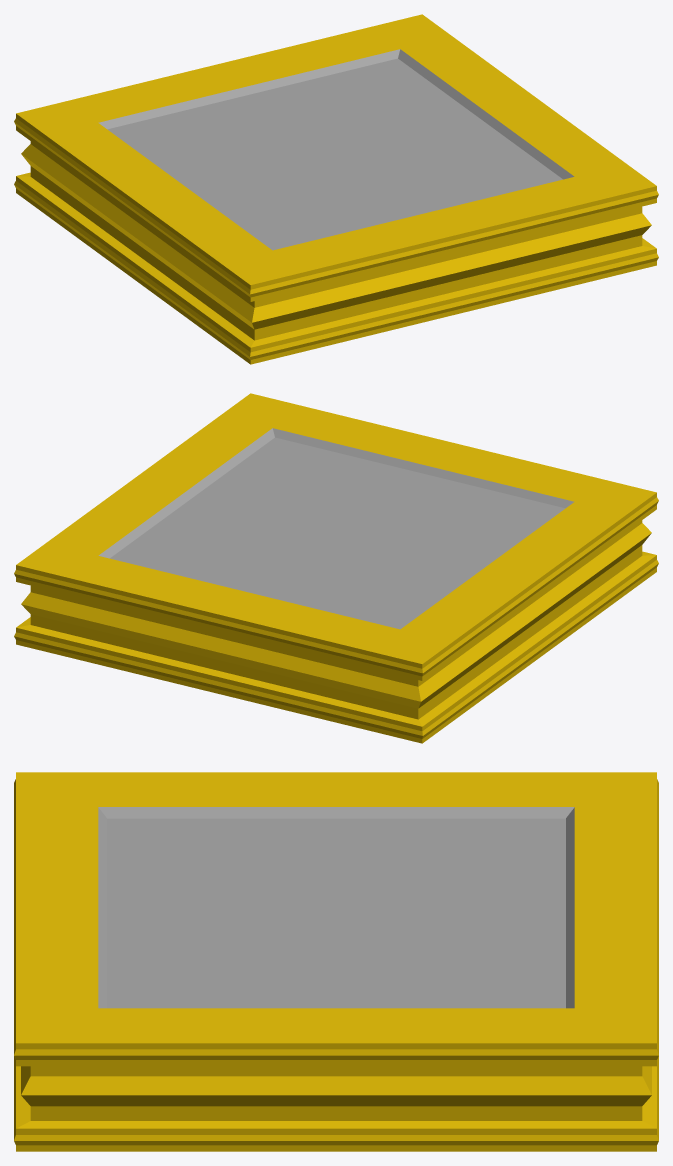
File: floating platform .fbx
3 views of the same model, one above another, from view 1: azimuth 30°, elevation 25°; view 2: azimuth 150°, elevation 25°; view 3: azimuth 270°, elevation 25° (orthographic). The views are drawn at different scales.
Visible parts, largest first — view 1: Cube; view 2: Cube; view 3: Cube.
Boxes of the visible parts, box(x1,y1,x2,y2) form: Cube: box(14, 14, 658, 364); Cube: box(14, 393, 658, 743); Cube: box(14, 772, 658, 1151).
Size of the model in its own units: 411 by 76.34 by 411.
